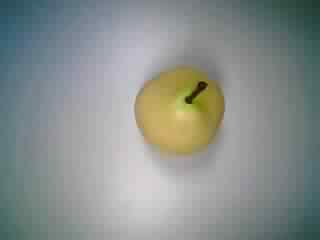pear: (124, 59, 233, 161)
